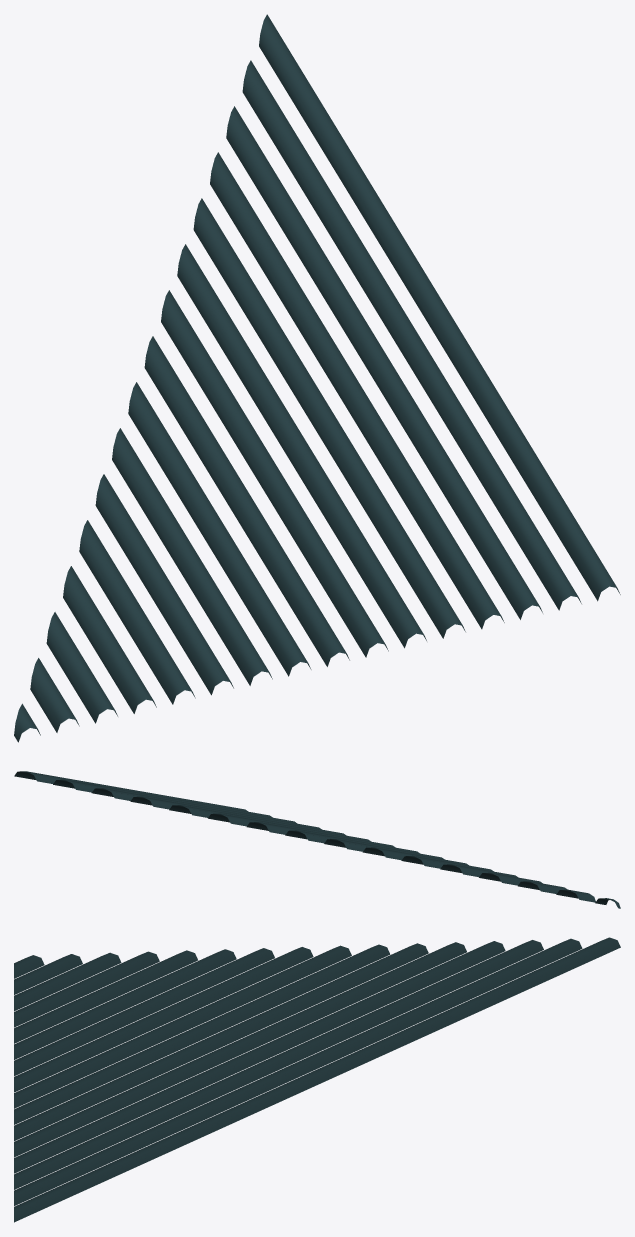
Rendered from palace-corner-tile.fbx.
3 views of the same model, one above another, from view 1: azimuth 30°, elevation 25°; view 2: azimuth 150°, elevation 25°; view 3: azimuth 270°, elevation 25° (orthographic). The views are drawn at different scales.
Visible parts, largest first — view 1: Plane.023_Baked; view 2: Plane.023_Baked; view 3: Plane.023_Baked.
Boxes of the visible parts, <box> form: Plane.023_Baked: <box>14,14,620,742</box>; Plane.023_Baked: <box>14,771,620,908</box>; Plane.023_Baked: <box>14,937,620,1222</box>.
Bounding box in the file's own units: 780 × 403 × 790.
